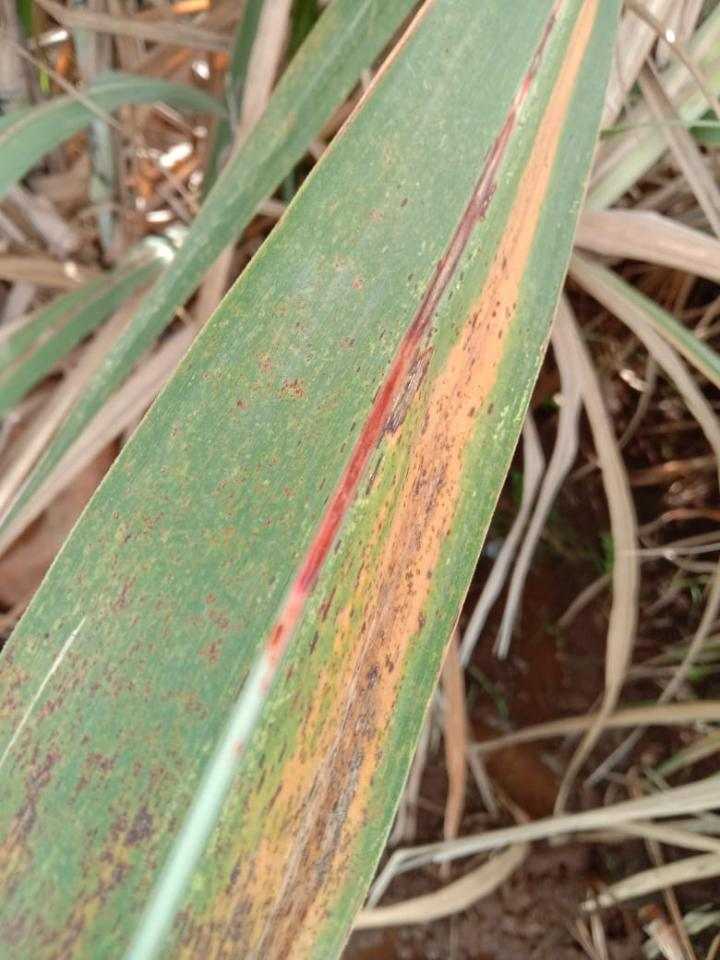RedRot: (253, 0, 567, 721)
Rust: (157, 240, 526, 959), (0, 310, 397, 959), (397, 187, 415, 217)
Yellow: (156, 0, 596, 959)
